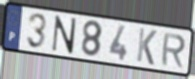3: (26, 13, 48, 50)
4: (107, 24, 128, 63)
8: (80, 20, 104, 58)
K: (135, 26, 158, 67)
N: (50, 14, 78, 55)
R: (160, 32, 188, 70)
